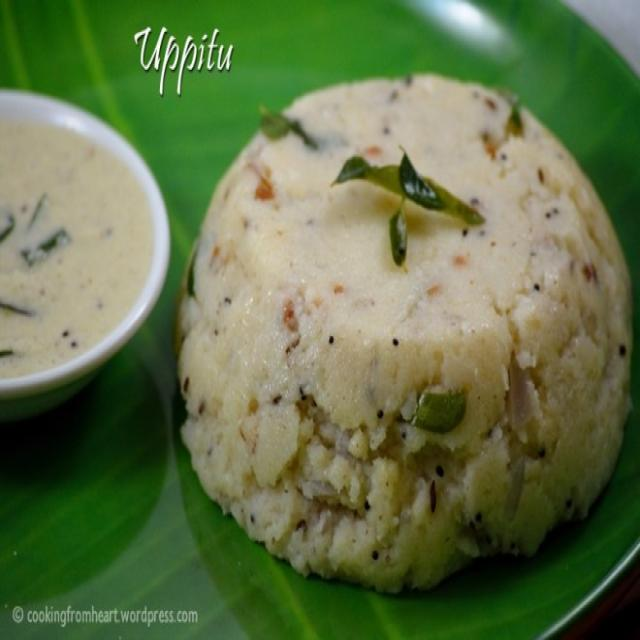upma: (168, 60, 640, 608)
